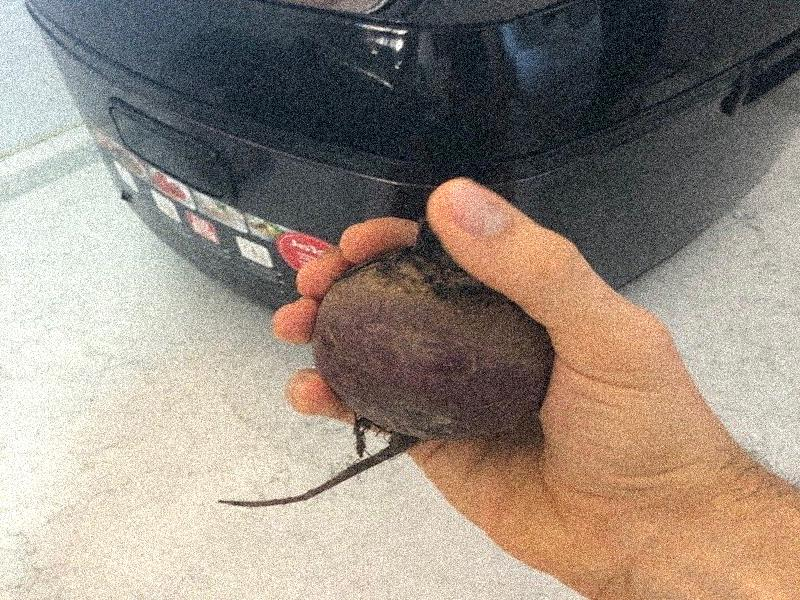Beet: (218, 220, 552, 506)
